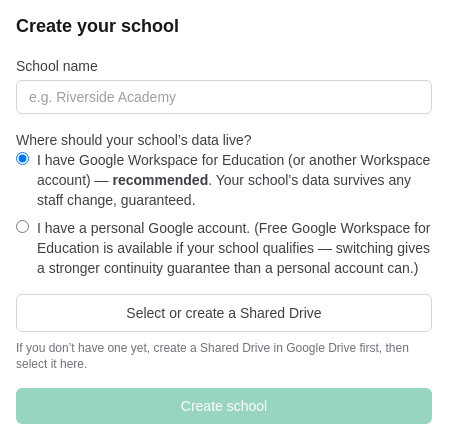
Test: NewSchoolClient › disables "Create school" until a name is entered and (for the Workspace path) a Shared Drive is picked
The width and height of the screenshot is (449, 441).
Expected: the heading "Create your school" is shown, [16,16,179,36]
Expected: the button "Create school" is disabled, [16,388,432,424]
In the field labelled "School name": {"x": 224, "y": 97} [16,80,432,114], type "Riverside Academy"
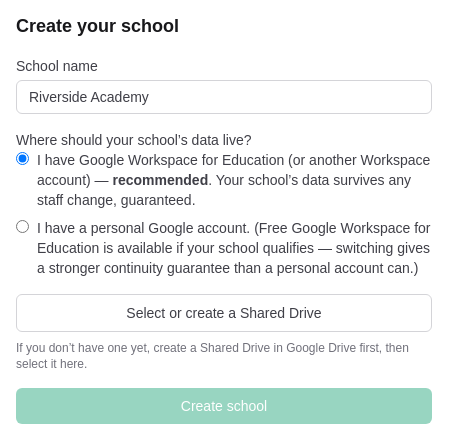
Expected: the button "Create school" is disabled, [16,388,432,424]
Click the button "Select or create a Shared Drive": {"x": 224, "y": 313} [16,294,432,332]
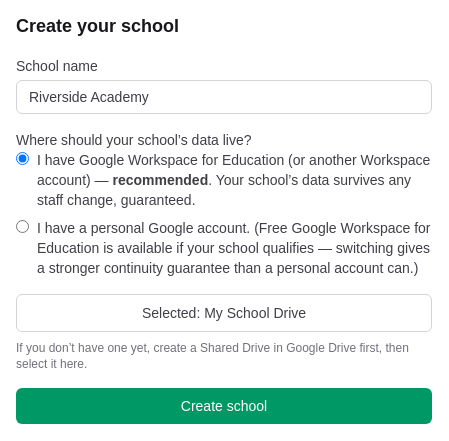
Now the button "Selected: My School Drive" is shown, box [16,294,432,332]
Now the button "Create school" is enabled, box [16,388,432,424]
